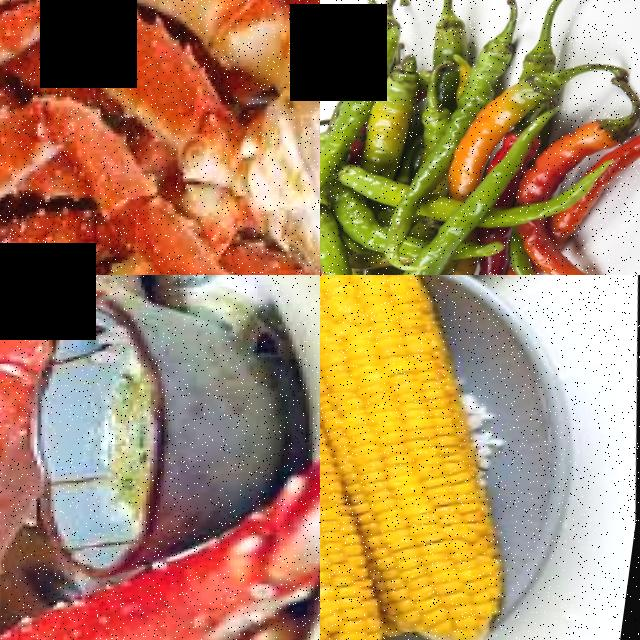chilli: (363, 55, 435, 166), (473, 62, 578, 135), (540, 97, 640, 160), (320, 196, 367, 275)
corn: (340, 399, 528, 632), (320, 275, 473, 424), (320, 453, 408, 640)
crab: (0, 0, 320, 275), (0, 531, 320, 640), (0, 275, 87, 640)
